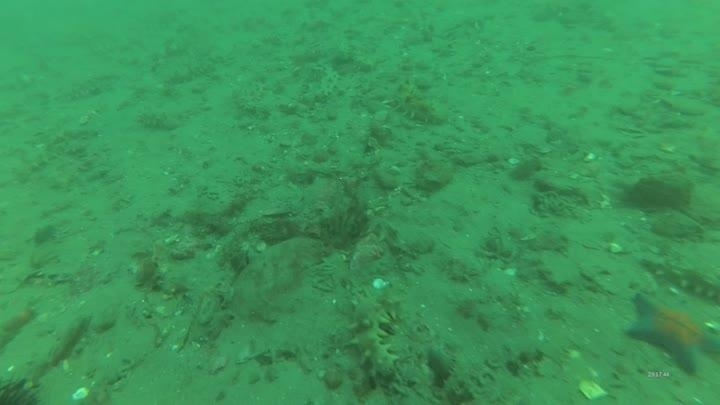holothurian: (345, 284, 405, 381), (640, 251, 720, 305), (388, 77, 450, 128), (52, 71, 115, 107), (156, 55, 219, 91), (231, 85, 278, 121), (284, 73, 331, 109), (134, 107, 184, 133)
starfish: (622, 290, 720, 378)
